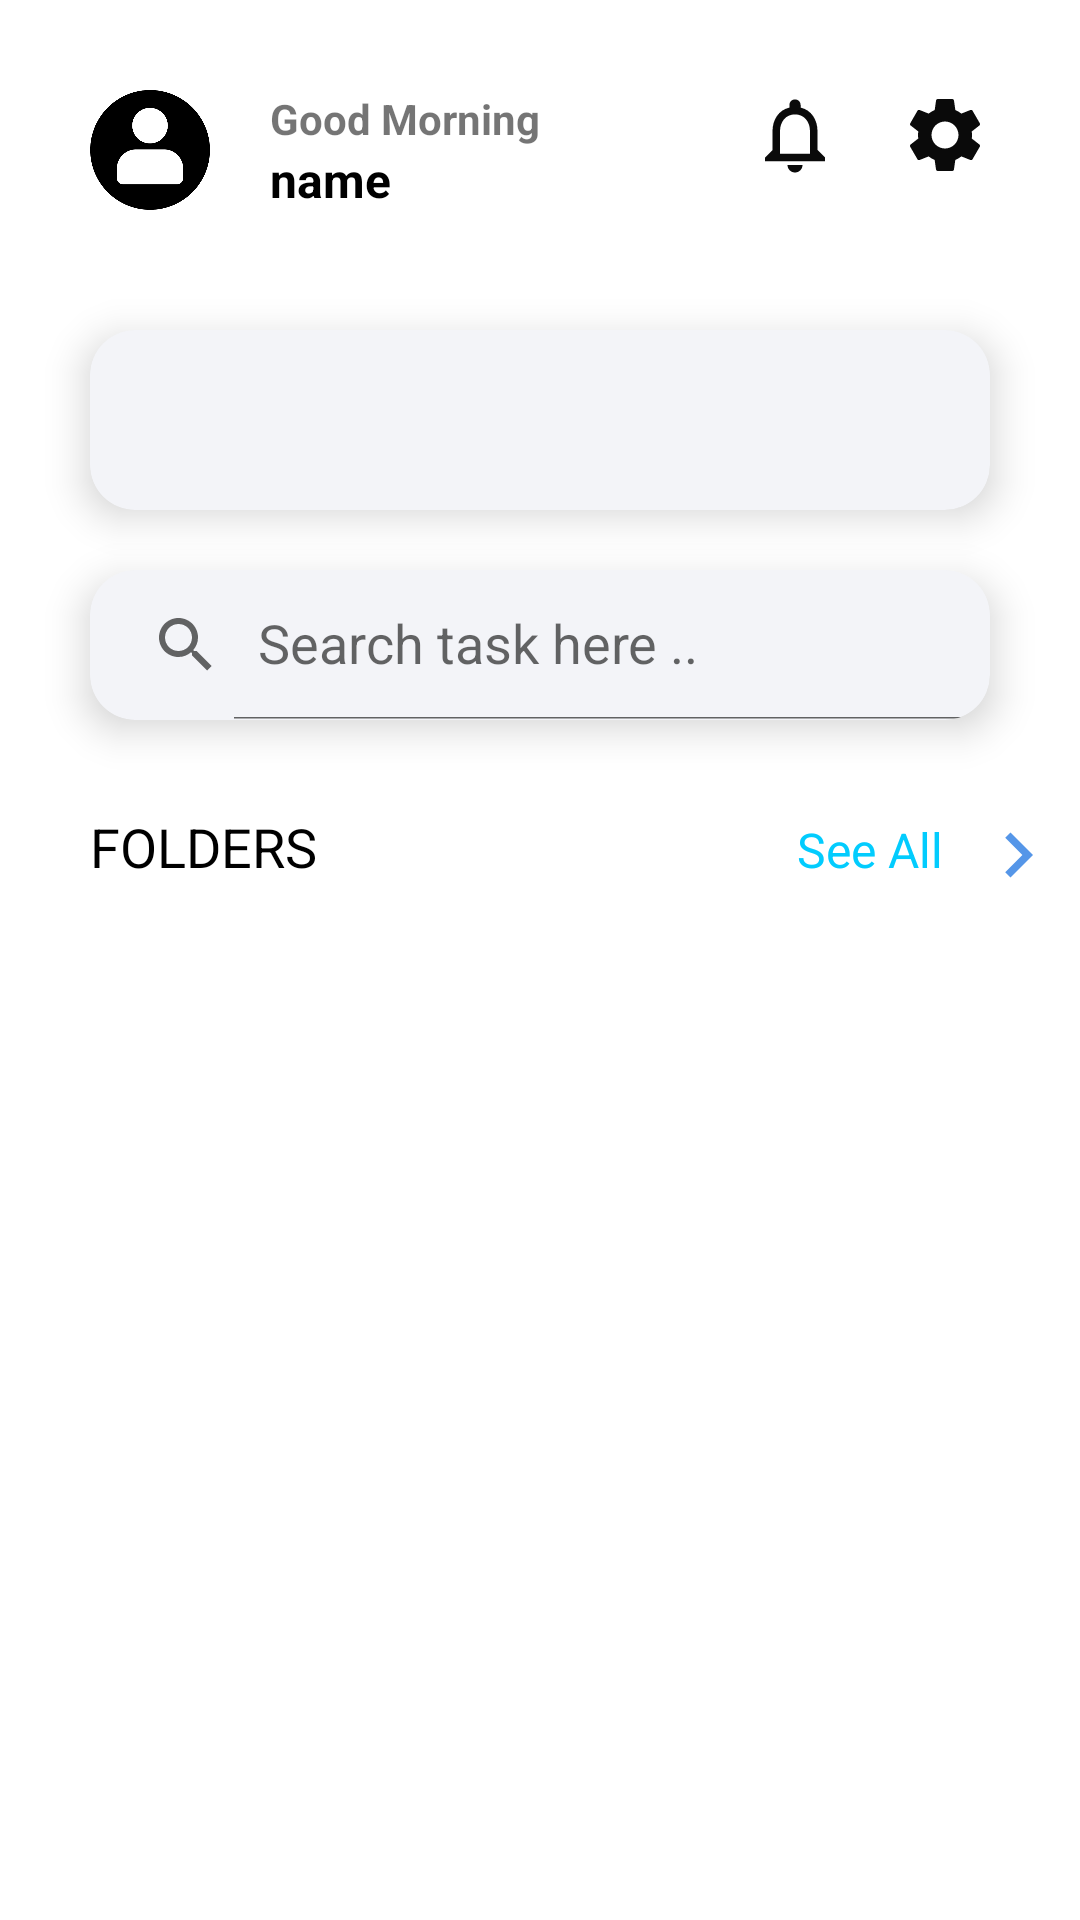

Where to tap for icons on this 1080*1920 app screen, as (x,y):
moremore: (1019,855)
notifications: (795,136)
person: (150,150)
settings: (945,135)
